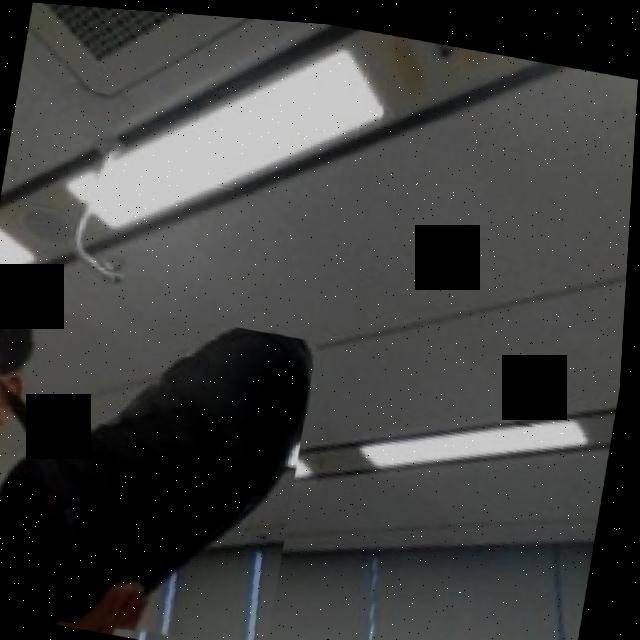shoe: (0, 281, 322, 640)
